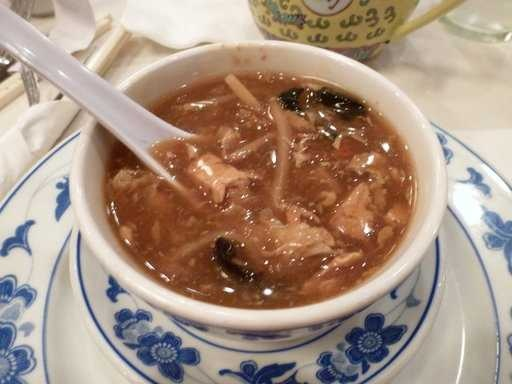soup: (102, 71, 388, 299)
